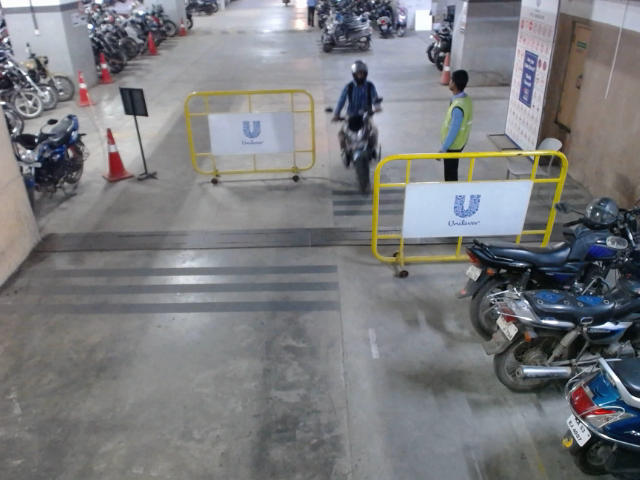with_helmet: (350, 59, 368, 83)
